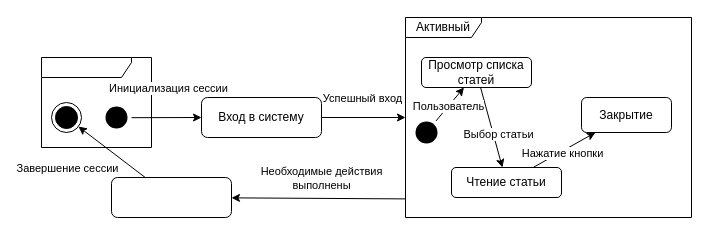
The diagram is 710 pixels wide and 235 high, and some of its shapes have lost their labels. Each missing label, with the box of its shape:
Выход из системы: (110, 176, 232, 218)
Неактивный: (40, 56, 152, 148)
